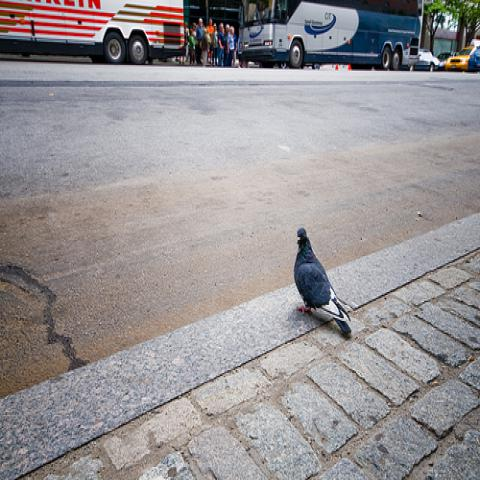bus: (234, 2, 424, 73), (1, 2, 187, 68)
car: (444, 47, 476, 70), (408, 49, 439, 71), (469, 44, 479, 72), (436, 52, 454, 67)
